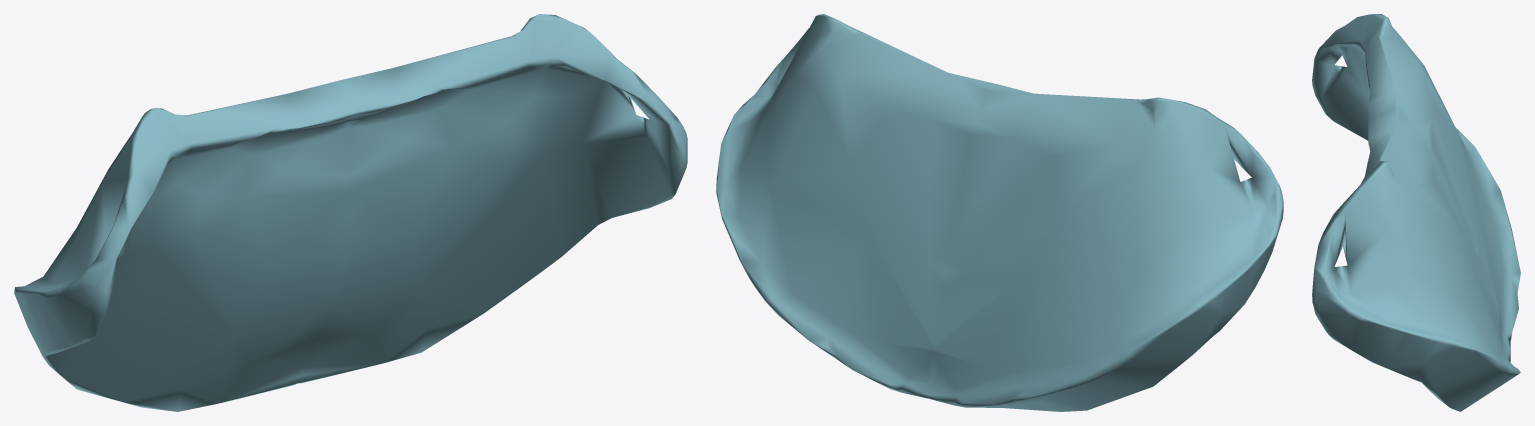
3 renders of one model, left to right at view 1: azimuth 30°, elevation 25°; view 2: azimuth 150°, elevation 25°; view 3: azimuth 270°, elevation 25°, orthographic. The views are drawn at different scales.
Parts seen in each view (by area): view 1: 颈6—颈7椎间盘; view 2: 颈6—颈7椎间盘; view 3: 颈6—颈7椎间盘.
Part boxes in pixels (x1,y1,x2,y2): 颈6—颈7椎间盘: (14, 14, 687, 411); 颈6—颈7椎间盘: (716, 14, 1283, 411); 颈6—颈7椎间盘: (1312, 14, 1520, 411).
Size of the model in its own units: 0.0449 by 0.0244 by 0.0167.
